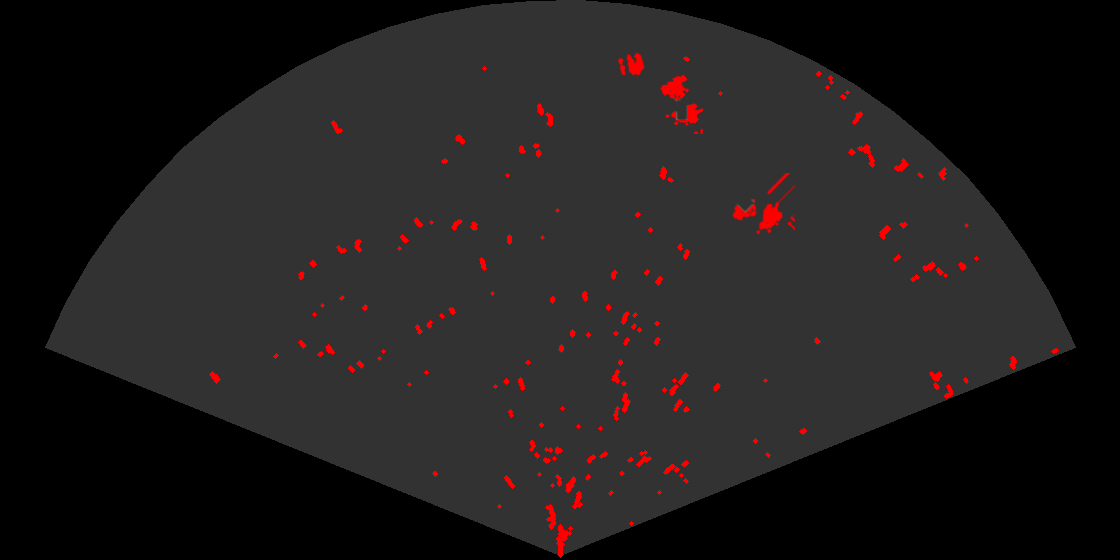ball: (617, 51, 646, 77)
cage: (731, 173, 795, 236), (659, 73, 703, 134)
